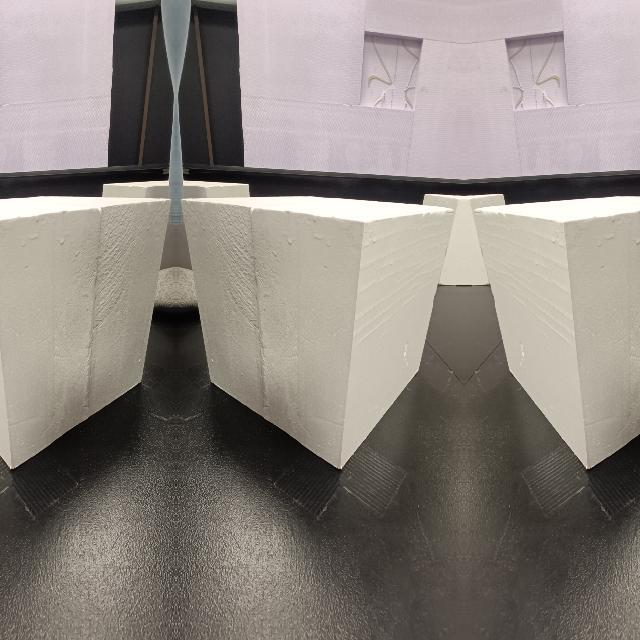obstacle: (179, 196, 455, 472), (0, 196, 171, 471), (472, 196, 640, 471)
